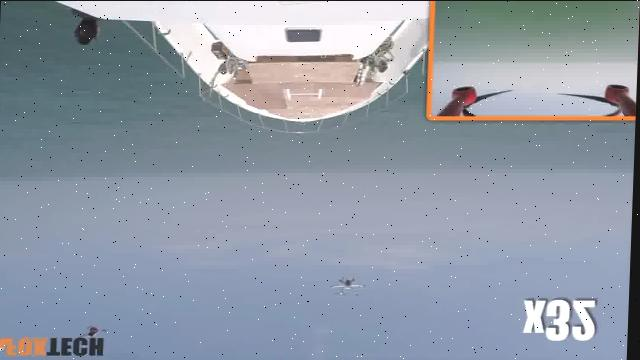drone: (327, 275, 368, 301)
